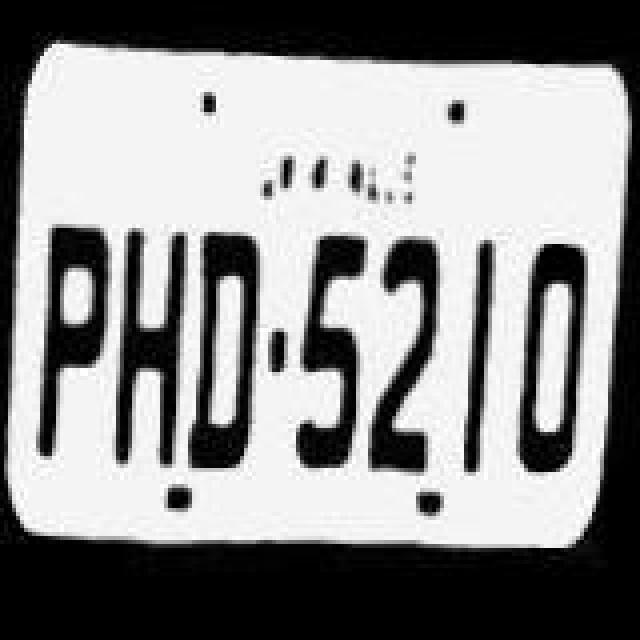1: (456, 224, 500, 492)
2: (374, 236, 446, 476)
5: (300, 228, 368, 484)
D: (188, 222, 256, 486)
H: (118, 212, 190, 472)
O: (514, 226, 602, 490)
P: (34, 224, 114, 480)
